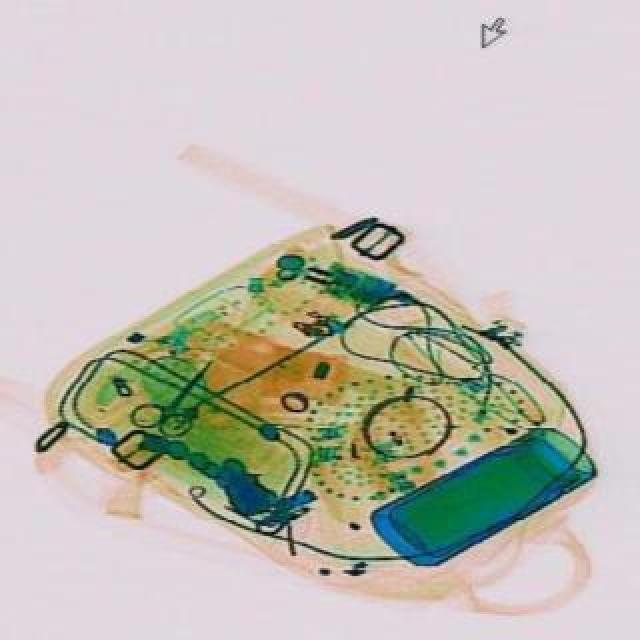pliers: (124, 348, 232, 454)
